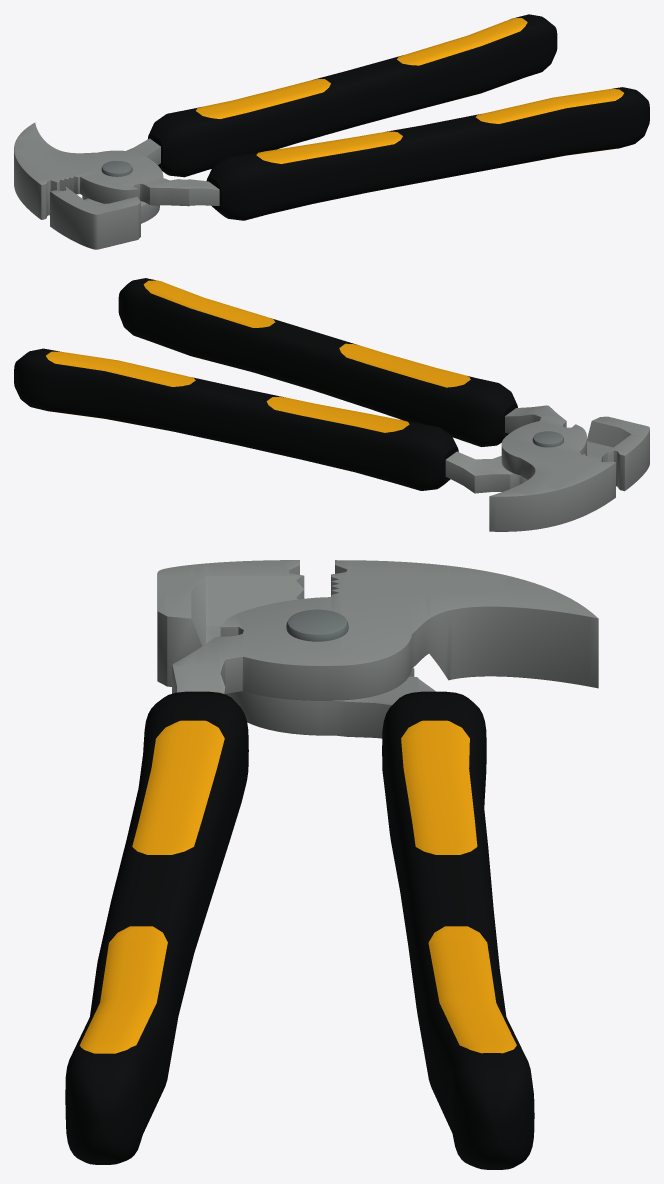
3 views of the same model, one above another, from view 1: azimuth 30°, elevation 25°; view 2: azimuth 150°, elevation 25°; view 3: azimuth 270°, elevation 25° (orthographic). The views are drawn at different scales.
Parts seen in each view (by area): view 1: part_009_Lower_black_grip_shell, part_004_Upper_black_grip_shell, part_011_Claw_jaw_and_lower_tang, part_010_Hammer_jaw_and_upper_tang, part_007_Lower_forward_front_inlay, part_002_Upper_forward_front_inlay, part_005_Lower_rear_front_inlay, part_000_Upper_rear_front_inlay, part_012_Central_peened_pivot; view 2: part_004_Upper_black_grip_shell, part_009_Lower_black_grip_shell, part_011_Claw_jaw_and_lower_tang, part_010_Hammer_jaw_and_upper_tang, part_002_Upper_forward_front_inlay, part_007_Lower_forward_front_inlay, part_000_Upper_rear_front_inlay, part_005_Lower_rear_front_inlay, part_012_Central_peened_pivot; view 3: part_011_Claw_jaw_and_lower_tang, part_009_Lower_black_grip_shell, part_004_Upper_black_grip_shell, part_010_Hammer_jaw_and_upper_tang, part_002_Upper_forward_front_inlay, part_007_Lower_forward_front_inlay, part_005_Lower_rear_front_inlay, part_000_Upper_rear_front_inlay, part_012_Central_peened_pivot.
Part boxes in pixels (bbox=[...]): part_009_Lower_black_grip_shell: bbox=[206, 87, 649, 220]; part_004_Upper_black_grip_shell: bbox=[148, 14, 557, 177]; part_011_Claw_jaw_and_lower_tang: bbox=[14, 122, 219, 219]; part_010_Hammer_jaw_and_upper_tang: bbox=[50, 138, 160, 249]; part_007_Lower_forward_front_inlay: bbox=[256, 131, 402, 163]; part_002_Upper_forward_front_inlay: bbox=[196, 79, 330, 118]; part_005_Lower_rear_front_inlay: bbox=[475, 89, 623, 123]; part_000_Upper_rear_front_inlay: bbox=[397, 18, 527, 65]; part_012_Central_peened_pivot: bbox=[101, 160, 132, 176]; part_004_Upper_black_grip_shell: bbox=[14, 348, 458, 490]; part_009_Lower_black_grip_shell: bbox=[118, 278, 517, 446]; part_011_Claw_jaw_and_lower_tang: bbox=[489, 405, 615, 531]; part_010_Hammer_jaw_and_upper_tang: bbox=[445, 416, 649, 493]; part_002_Upper_forward_front_inlay: bbox=[266, 396, 409, 432]; part_007_Lower_forward_front_inlay: bbox=[339, 343, 470, 387]; part_000_Upper_rear_front_inlay: bbox=[46, 351, 195, 386]; part_005_Lower_rear_front_inlay: bbox=[143, 280, 275, 327]; part_012_Central_peened_pivot: bbox=[532, 431, 563, 447]; part_011_Claw_jaw_and_lower_tang: bbox=[172, 560, 598, 700]; part_009_Lower_black_grip_shell: bbox=[65, 691, 248, 1164]; part_004_Upper_black_grip_shell: bbox=[382, 691, 534, 1169]; part_010_Hammer_jaw_and_upper_tang: bbox=[157, 560, 435, 738]; part_002_Upper_forward_front_inlay: bbox=[401, 720, 477, 854]; part_007_Lower_forward_front_inlay: bbox=[132, 720, 224, 854]; part_005_Lower_rear_front_inlay: bbox=[79, 926, 167, 1053]; part_000_Upper_rear_front_inlay: bbox=[428, 926, 516, 1053]; part_012_Central_peened_pivot: bbox=[286, 609, 348, 641].
Bounding box in the file's own units: 0.264 × 0.025 × 0.11.
